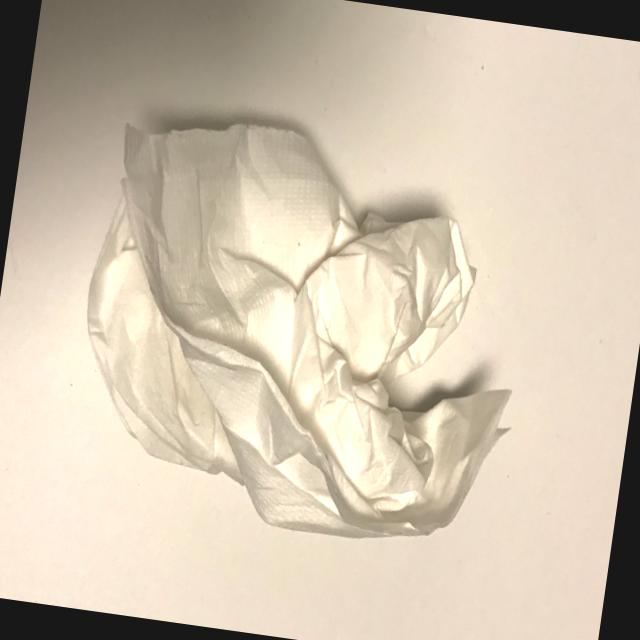Paper: (59, 100, 548, 560)
